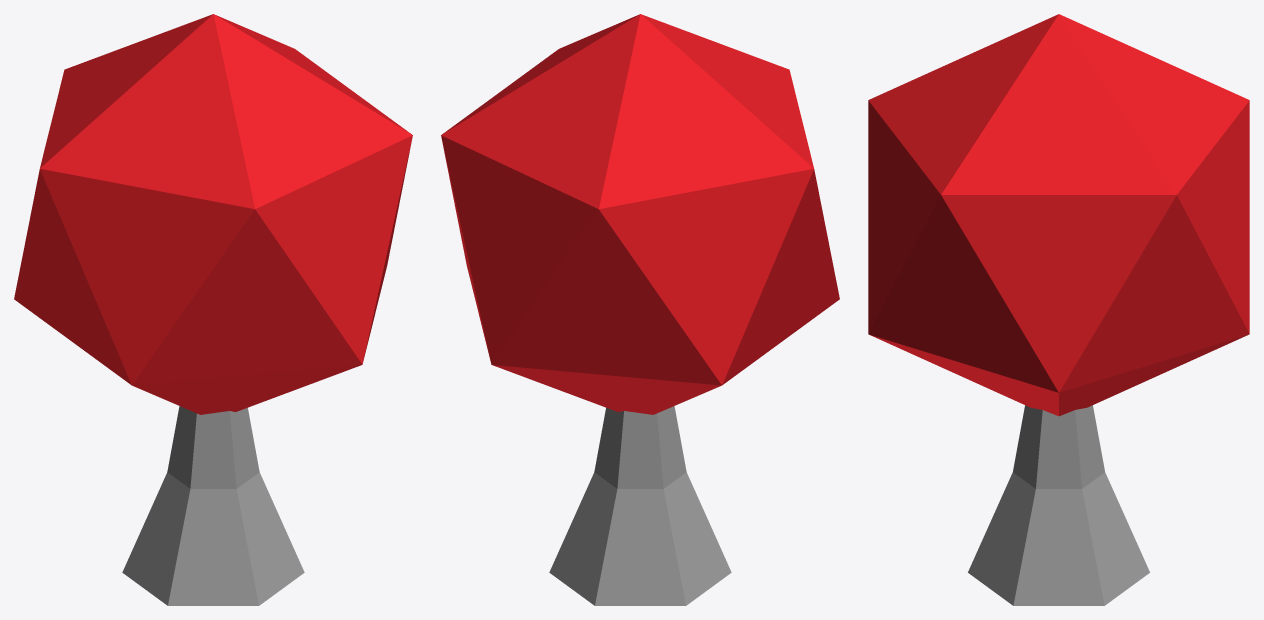
The model's file is SmallBush2.obj.
3 views of the same model, side by side, from view 1: azimuth 30°, elevation 25°; view 2: azimuth 150°, elevation 25°; view 3: azimuth 270°, elevation 25° (orthographic).
Parts seen in each view (by area): view 1: Cylinder_Cylinder.000; view 2: Cylinder_Cylinder.000; view 3: Cylinder_Cylinder.000.
Boxes of the visible parts, box(x1,y1,x2,y2) form: Cylinder_Cylinder.000: box(14, 14, 412, 605); Cylinder_Cylinder.000: box(441, 14, 839, 605); Cylinder_Cylinder.000: box(868, 14, 1249, 605).
Size of the model in its own units: 0.4316 by 0.6631 by 0.4105.
